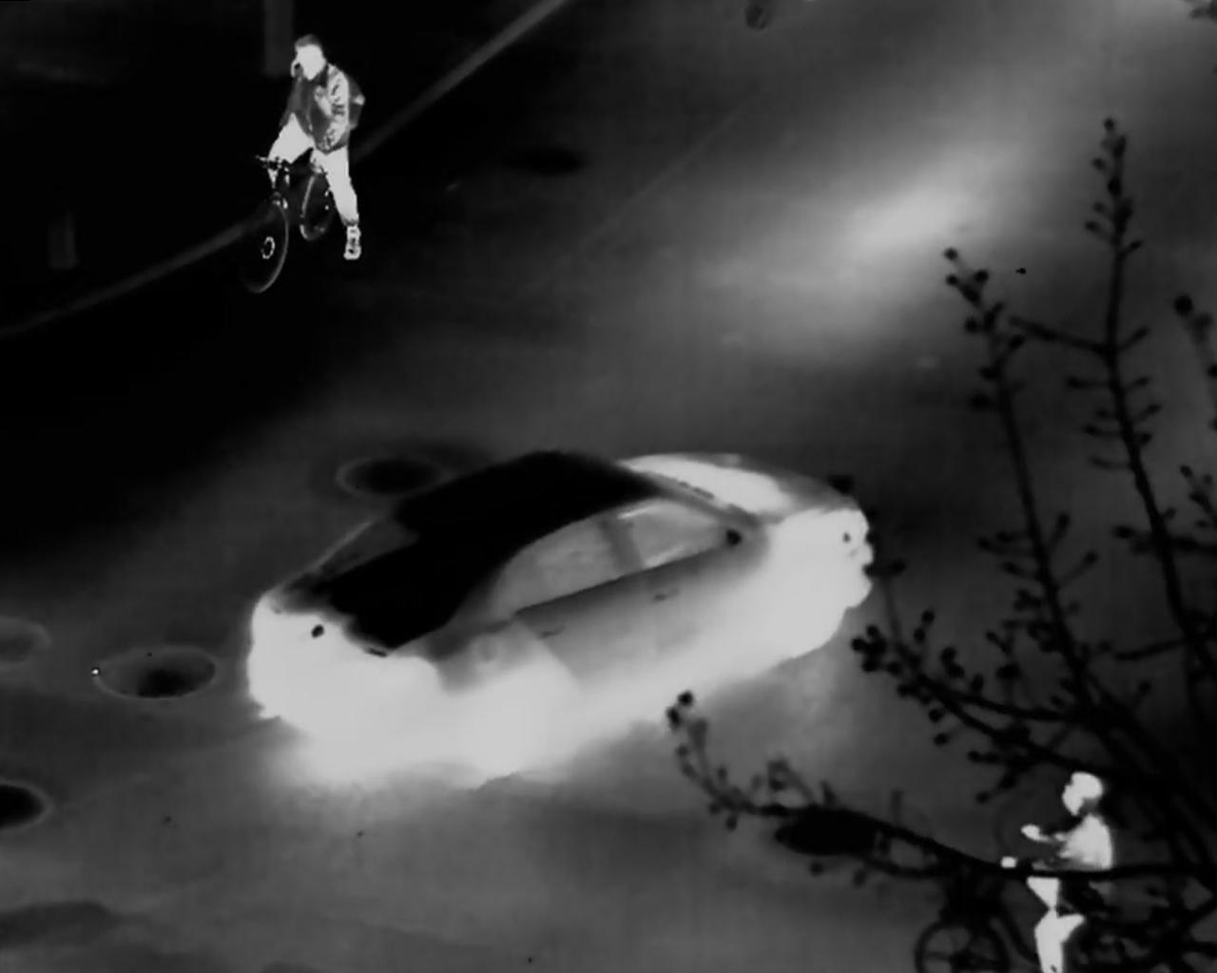person: (998, 770, 1115, 973), (262, 30, 363, 261)
